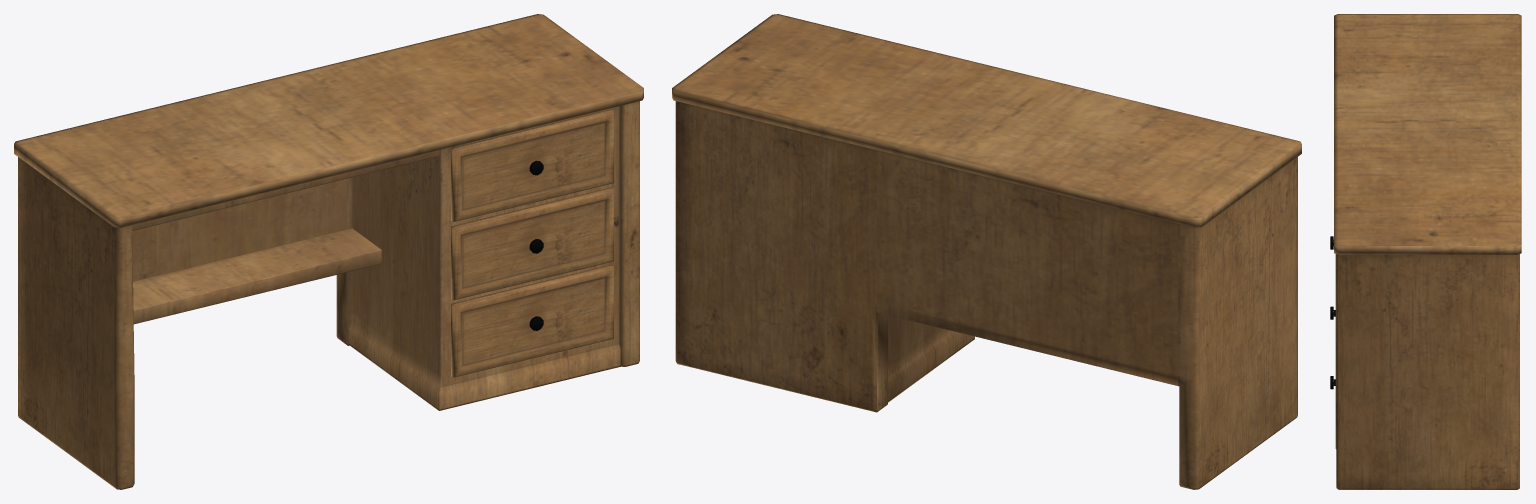
Rendered from Computerdesk 1.fbx.
3 renders of one model, left to right at view 1: azimuth 30°, elevation 25°; view 2: azimuth 150°, elevation 25°; view 3: azimuth 270°, elevation 25°, orthographic. The views are drawn at different scales.
Visible parts, largest first — view 1: Mesa 1, Mesa 1 2.001, Mesa 1 2.002, Mesa 1 2; view 2: Mesa 1; view 3: Mesa 1.
Part boxes in pixels (x1,y1,x2,y2): Mesa 1: [14, 14, 643, 489]; Mesa 1 2.001: [451, 187, 613, 300]; Mesa 1 2.002: [451, 109, 613, 222]; Mesa 1 2: [451, 264, 613, 377]; Mesa 1: [672, 14, 1301, 489]; Mesa 1: [1334, 14, 1521, 489].
Bounding box in the file's own units: 113 × 55.96 × 39.44.
